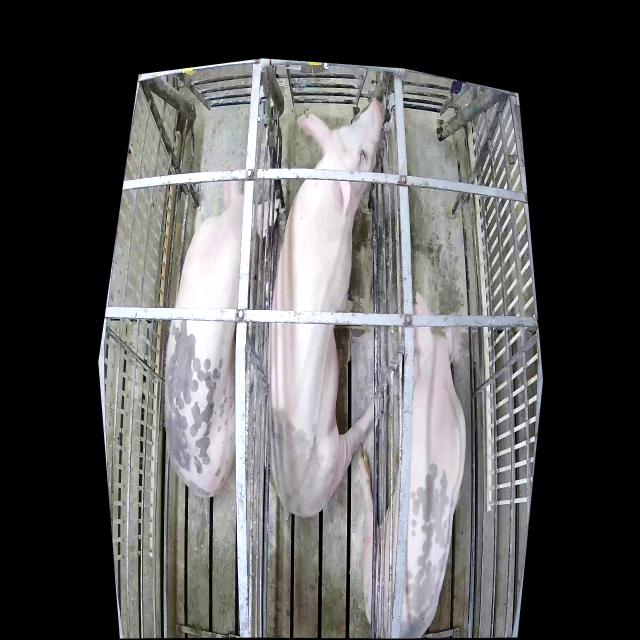pig: (267, 97, 385, 519), (357, 293, 470, 636), (165, 182, 280, 497)
